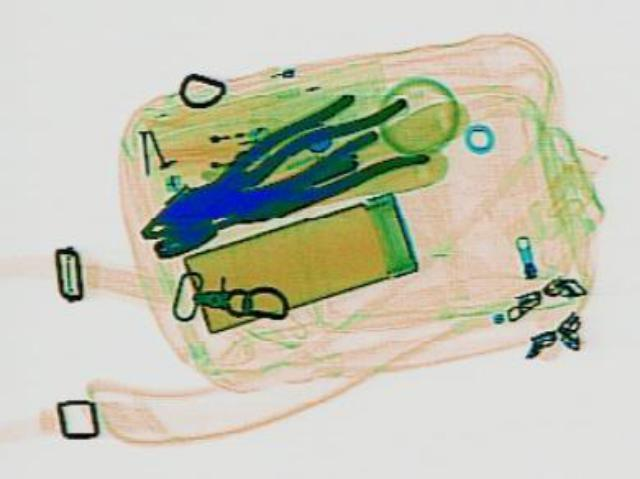Pliers: (112, 88, 398, 253), (140, 94, 448, 245)
